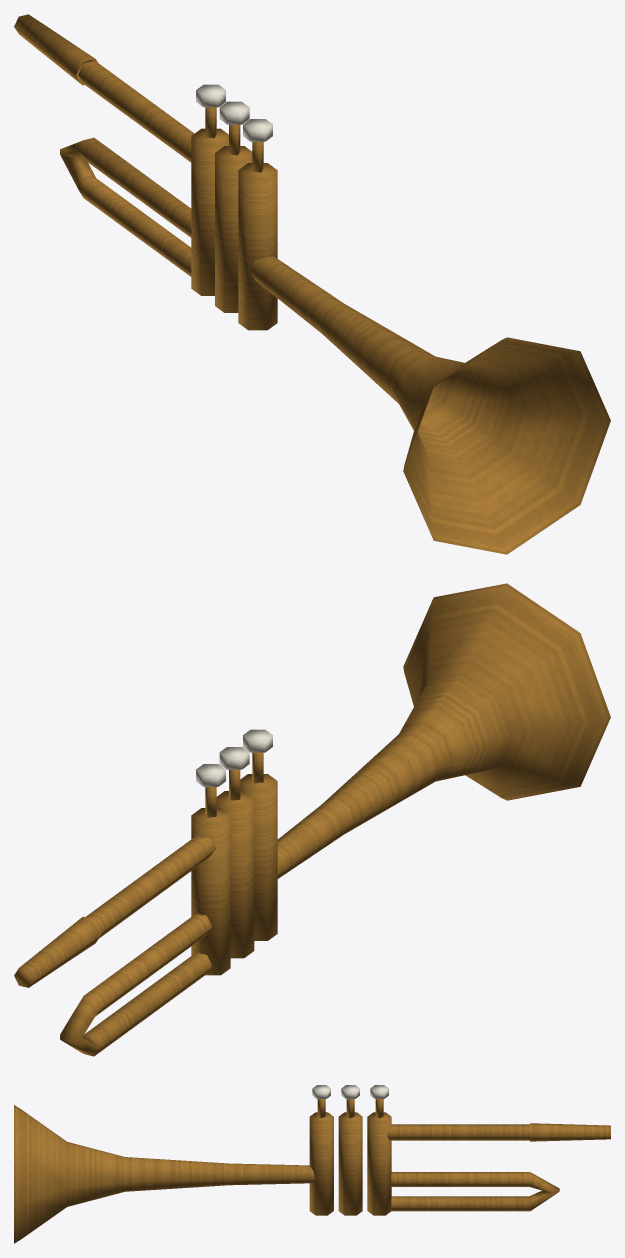
Rendered from trumpet_4.glb.
3 renders of one model, top to bottom at view 1: azimuth 30°, elevation 25°; view 2: azimuth 150°, elevation 25°; view 3: azimuth 270°, elevation 25°, orthographic. The views are drawn at different scales.
Parts seen in each view (by area): view 1: trumpet_4; view 2: trumpet_4; view 3: trumpet_4.
Boxes of the visible parts, x1=… form: trumpet_4: x1=14, y1=14, x2=610, y2=554; trumpet_4: x1=14, y1=583, x2=610, y2=1056; trumpet_4: x1=14, y1=1085, x2=610, y2=1243.
Bounding box in the file's own units: 0.128 × 0.146 × 0.516.
Materials: 2 (2 with a texture image).
